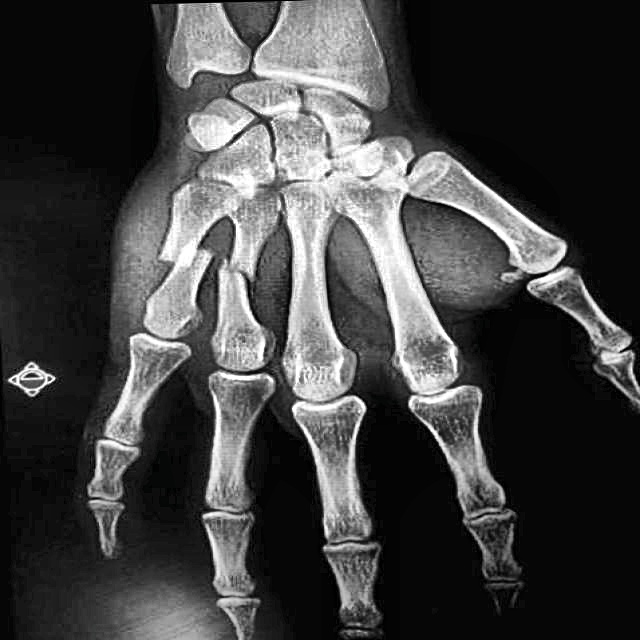Transverse: (134, 228, 214, 288)
Transverse Displaced: (210, 245, 286, 310)
